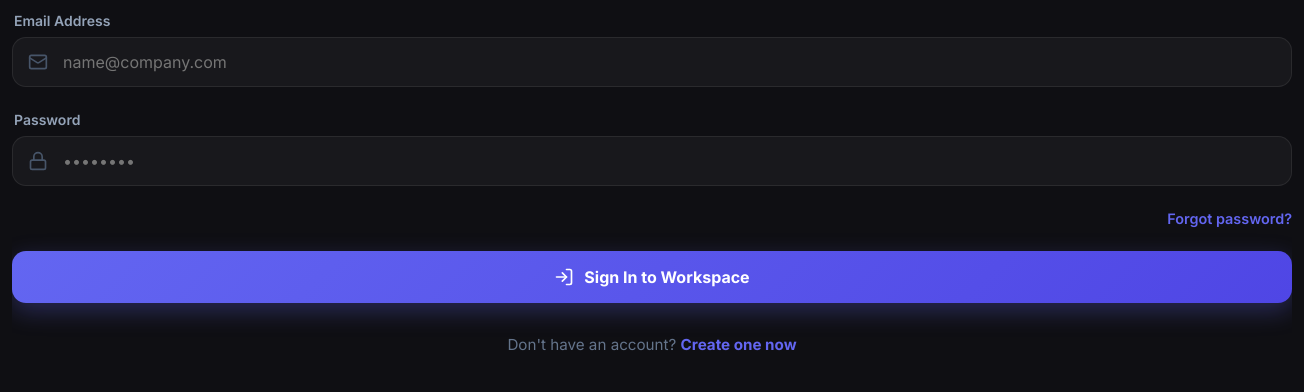
Test case: LoginPage › shows password too short error
This screenshot has width=1304, height=392.
Type "user@test.com" into the field with placeholder "name@company.com". click: (652, 62)
box: [12, 37, 1292, 87]
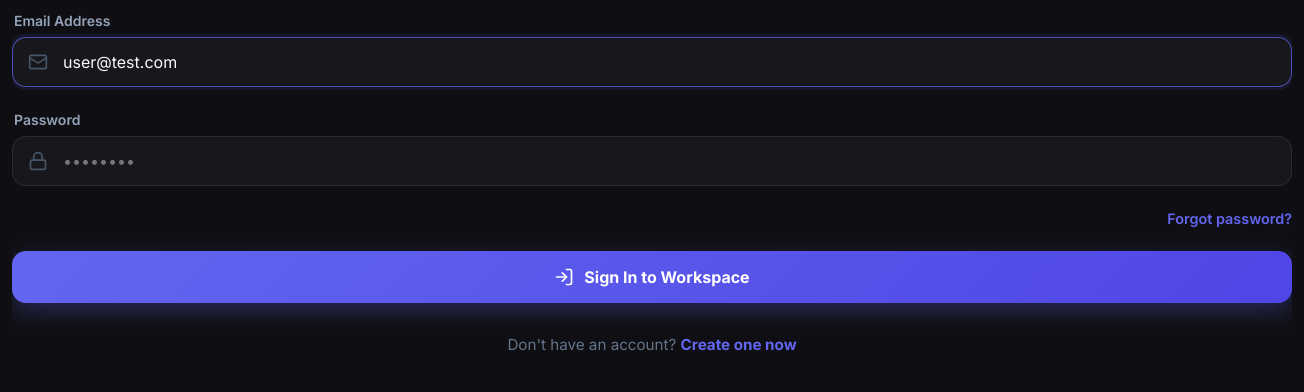
Type "123" into the password field with placeholder "••••••••". click: (652, 161)
box: [12, 136, 1292, 186]
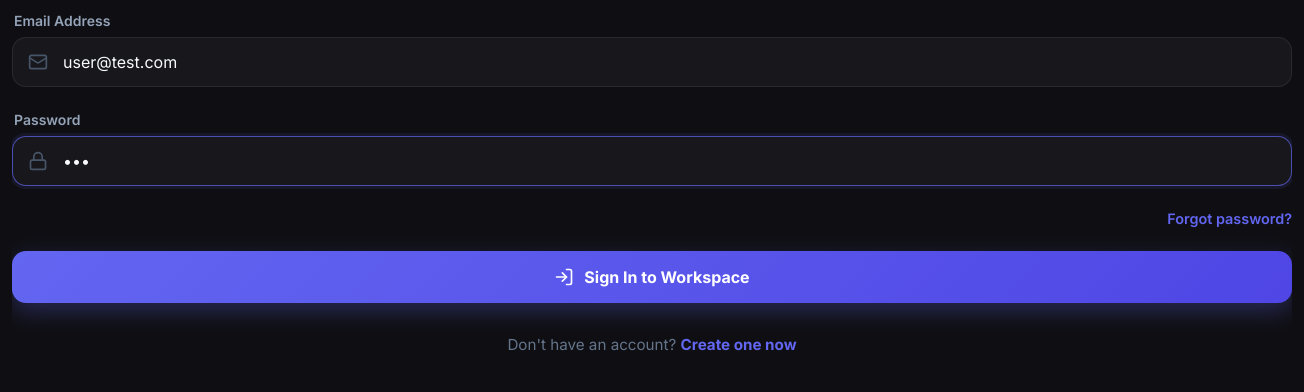
Click the button "Sign In to Workspace". click: (652, 277)
box: [12, 251, 1292, 303]
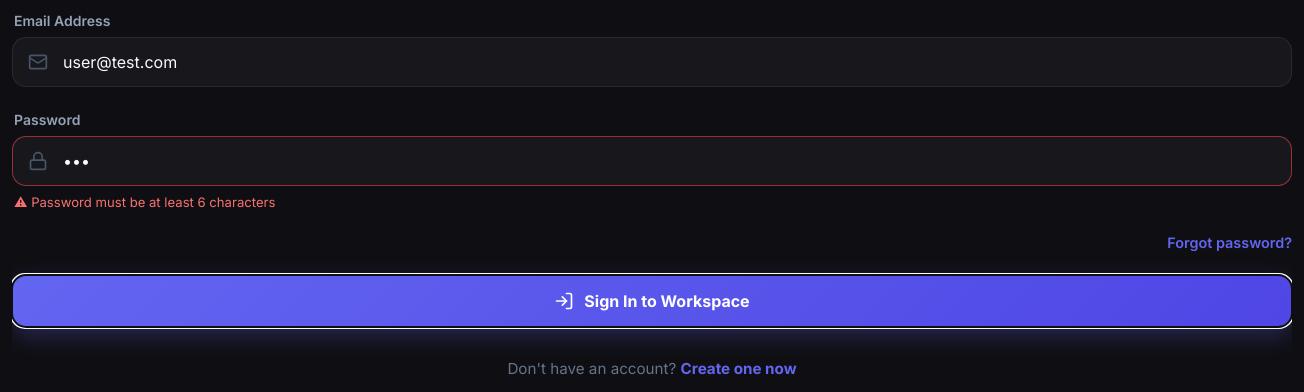
Result: the text "⚠ Password must be at least 6 characters" is shown at [14, 194, 275, 210]
